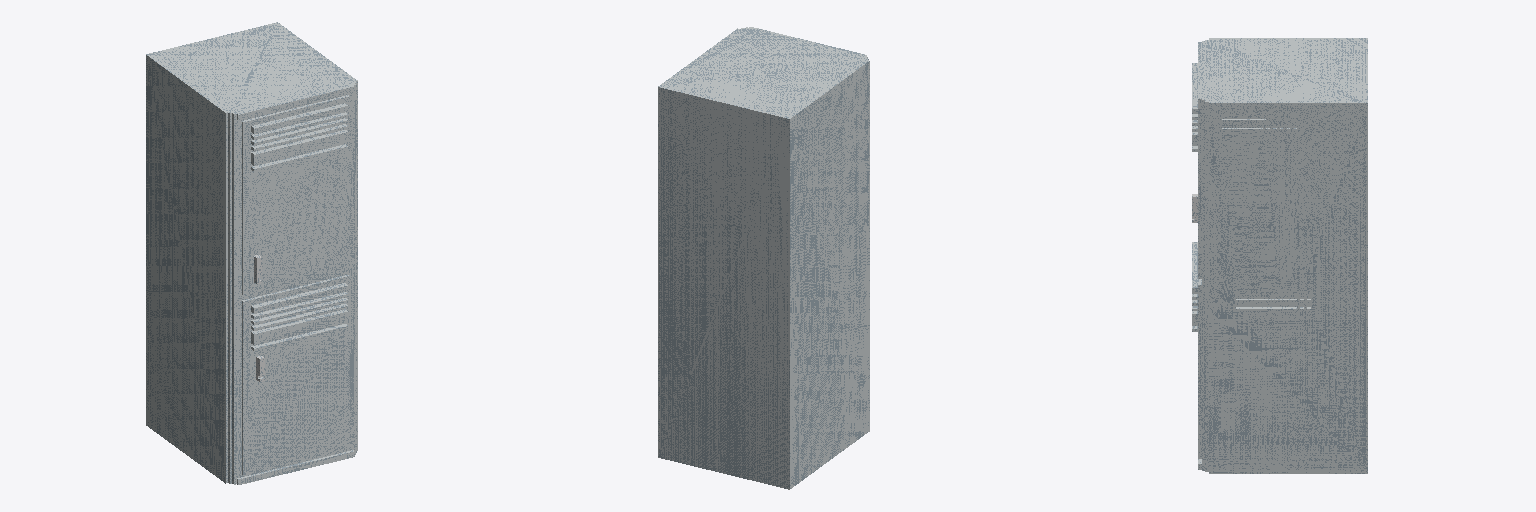
The model's file is locker.obj.
3 views of the same model, side by side, from view 1: azimuth 30°, elevation 25°; view 2: azimuth 150°, elevation 25°; view 3: azimuth 270°, elevation 25° (orthographic).
Visible parts, largest first — view 1: Mesh1 Model; view 2: Mesh1 Model; view 3: Mesh1 Model.
Boxes of the visible parts, <box> form: Mesh1 Model: <box>146,22,357,484</box>; Mesh1 Model: <box>658,27,869,489</box>; Mesh1 Model: <box>1192,38,1367,473</box>.
Size of the model in its own units: 0.7007 by 1.88 by 0.8126.